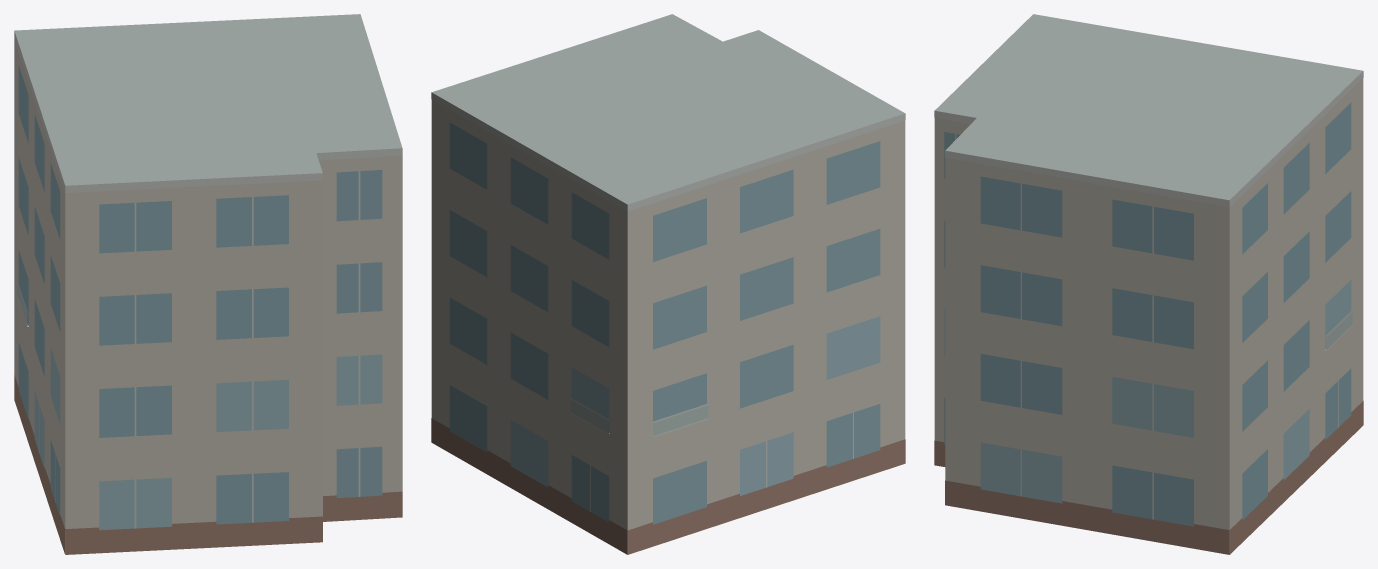
The model's file is survey-upis-32525457.glb.
The picture shows the model from 3 angles, left to right: view 1: azimuth 30°, elevation 25°; view 2: azimuth 150°, elevation 25°; view 3: azimuth 270°, elevation 25°; orthographic projection. The views are drawn at different scales.
Parts seen in each view (by area): view 1: survey-upis-32525457.tmp; view 2: survey-upis-32525457.tmp; view 3: survey-upis-32525457.tmp.
Boxes of the visible parts, x1=… form: survey-upis-32525457.tmp: x1=14, y1=14, x2=402, y2=554; survey-upis-32525457.tmp: x1=431, y1=14, x2=905, y2=554; survey-upis-32525457.tmp: x1=934, y1=14, x2=1363, y2=554.
Size of the model in its own units: 13.81 by 12.25 by 13.44.
